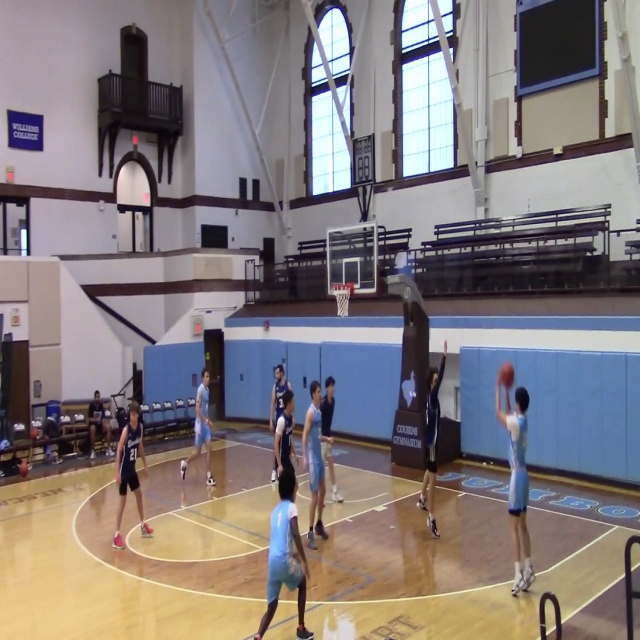Basketball: (498, 362, 514, 386)
